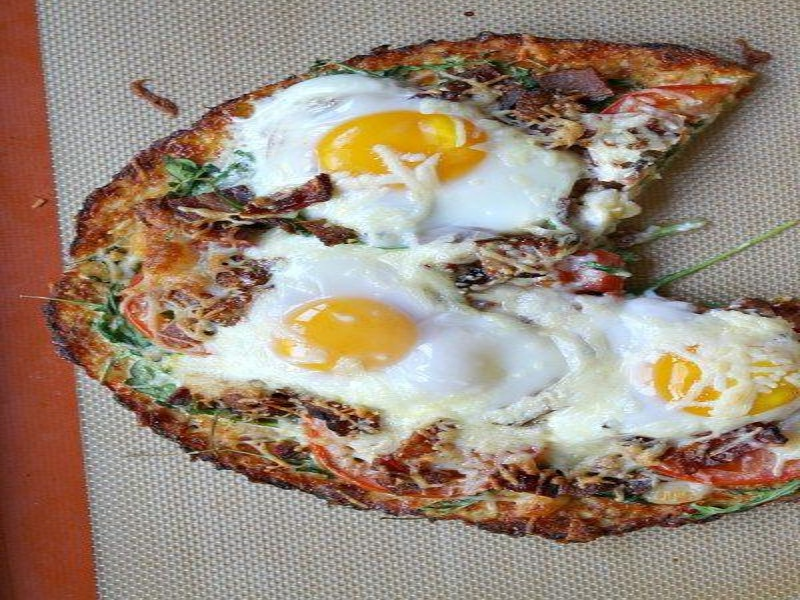oeuf: (305, 102, 508, 204), (257, 284, 442, 385), (640, 325, 800, 421)
